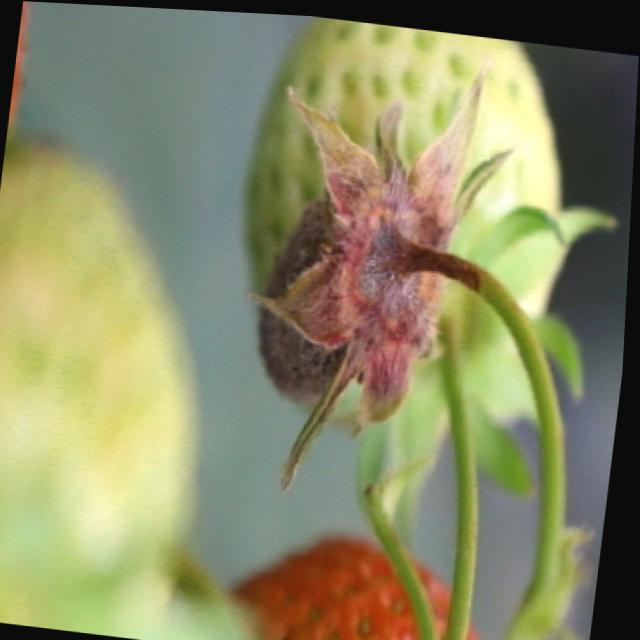Gray Mold: (247, 64, 511, 490)
